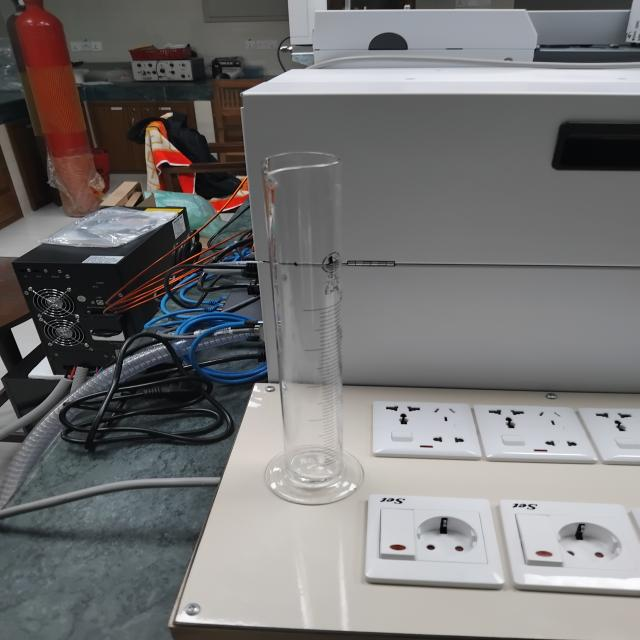Measuring_Cylinder: (224, 119, 408, 517)
